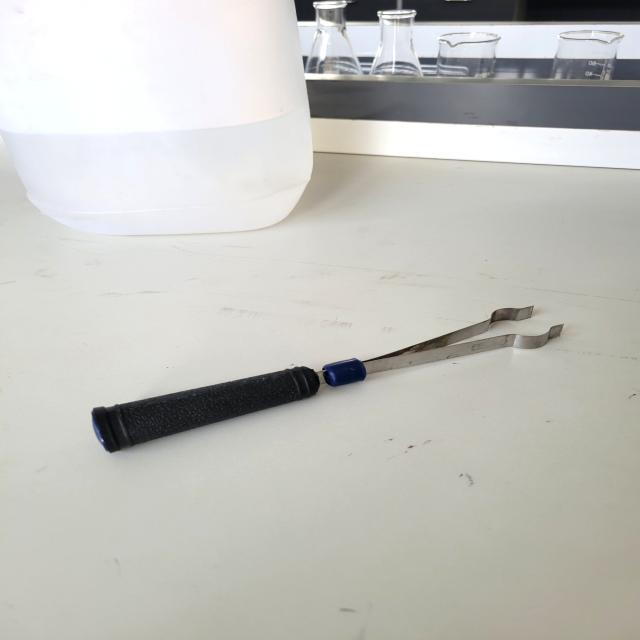TestTube_Holder: (68, 298, 574, 466)
